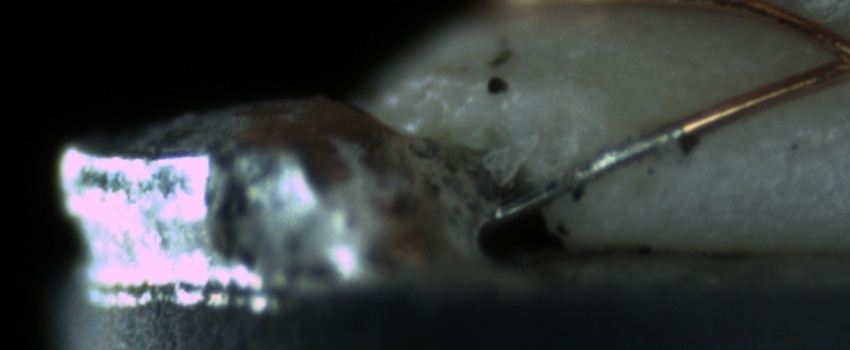CL: (802, 22, 850, 91)
TS: (483, 125, 684, 223)
